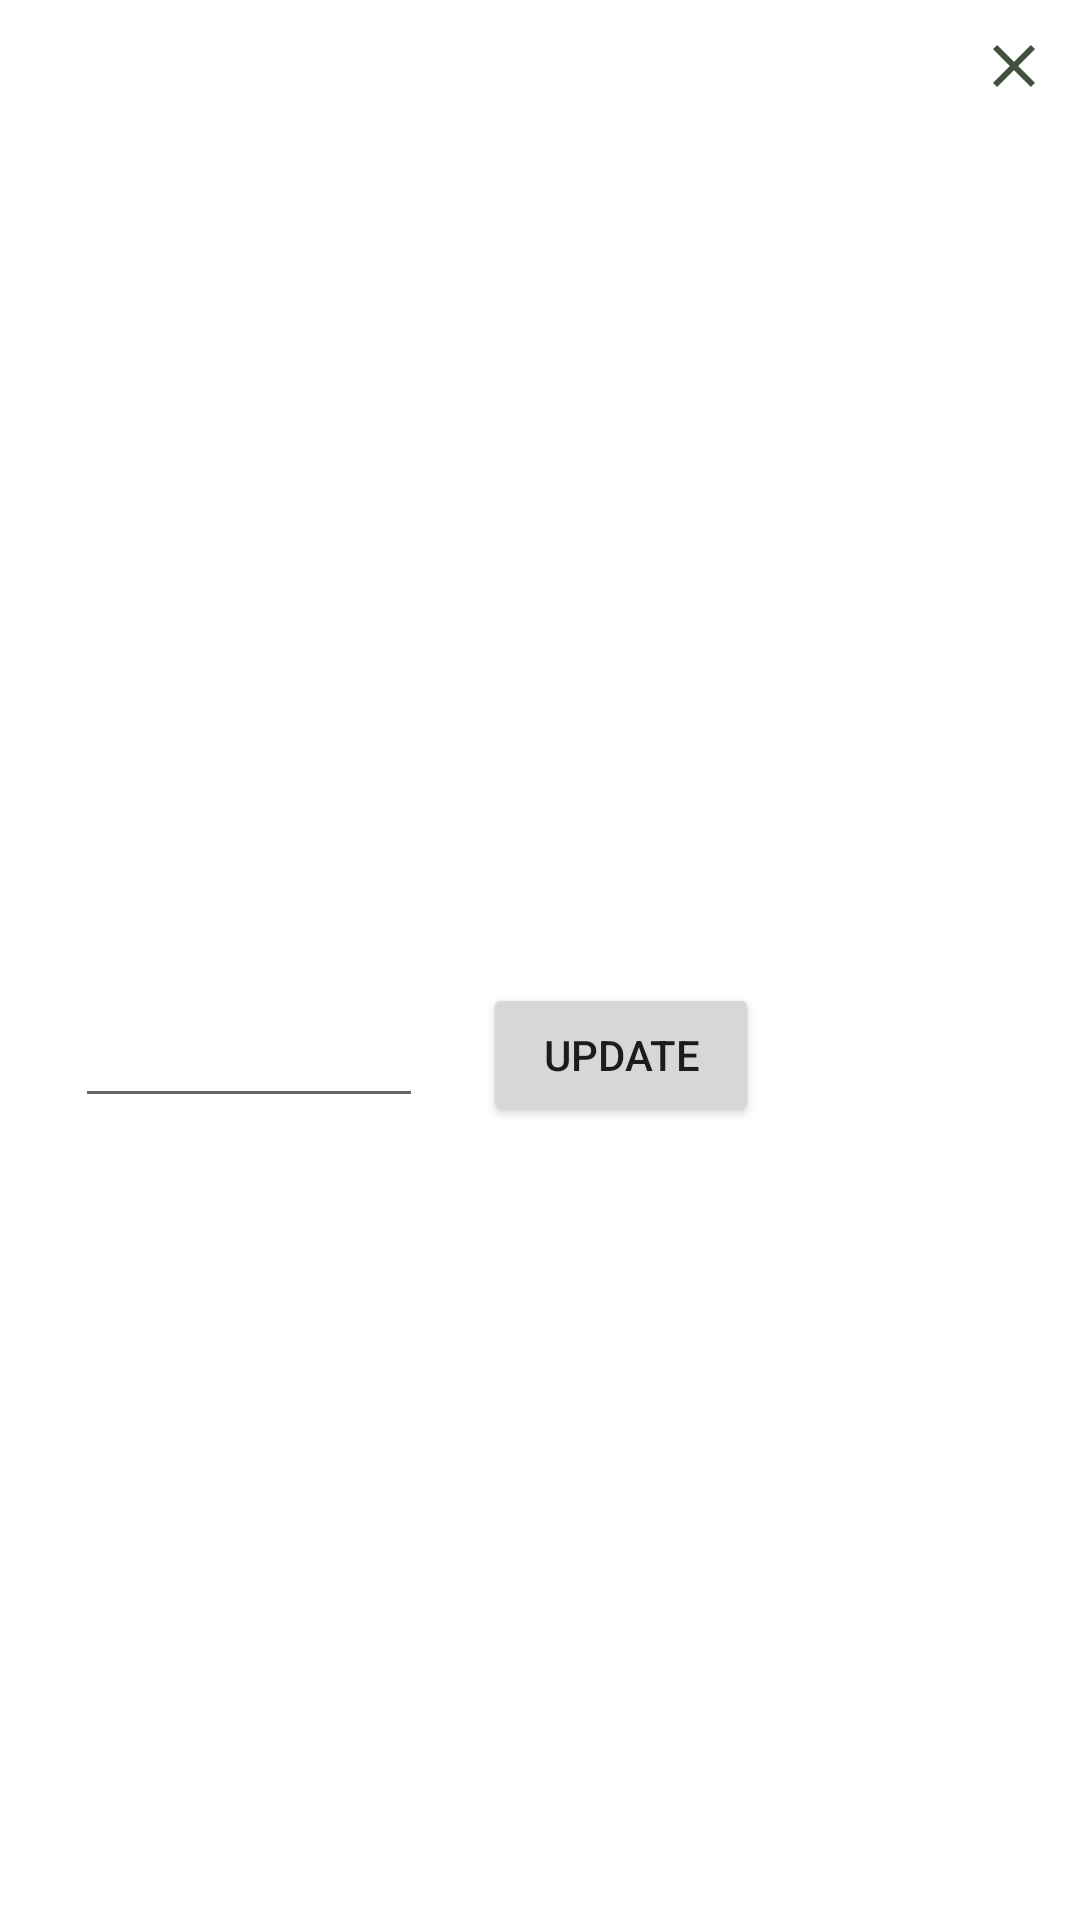

Named icons in this screenshot (1080px x 1920px) and their centers, point (x, y):
close: point (1014, 66)
